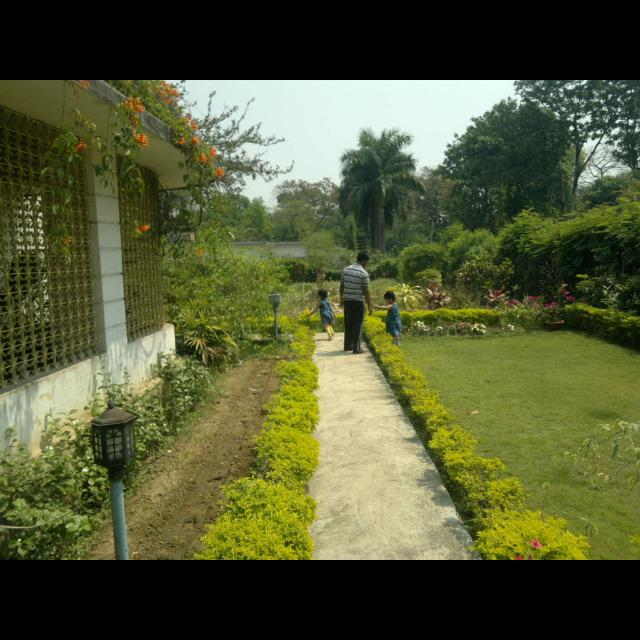Flower: (132, 80, 226, 180), (502, 294, 560, 322), (458, 319, 488, 335), (402, 318, 430, 334), (562, 282, 580, 302), (434, 318, 454, 332), (70, 140, 88, 154), (502, 323, 516, 333), (138, 222, 150, 232), (196, 247, 204, 261), (64, 237, 74, 247), (530, 540, 540, 548), (512, 556, 522, 560)
